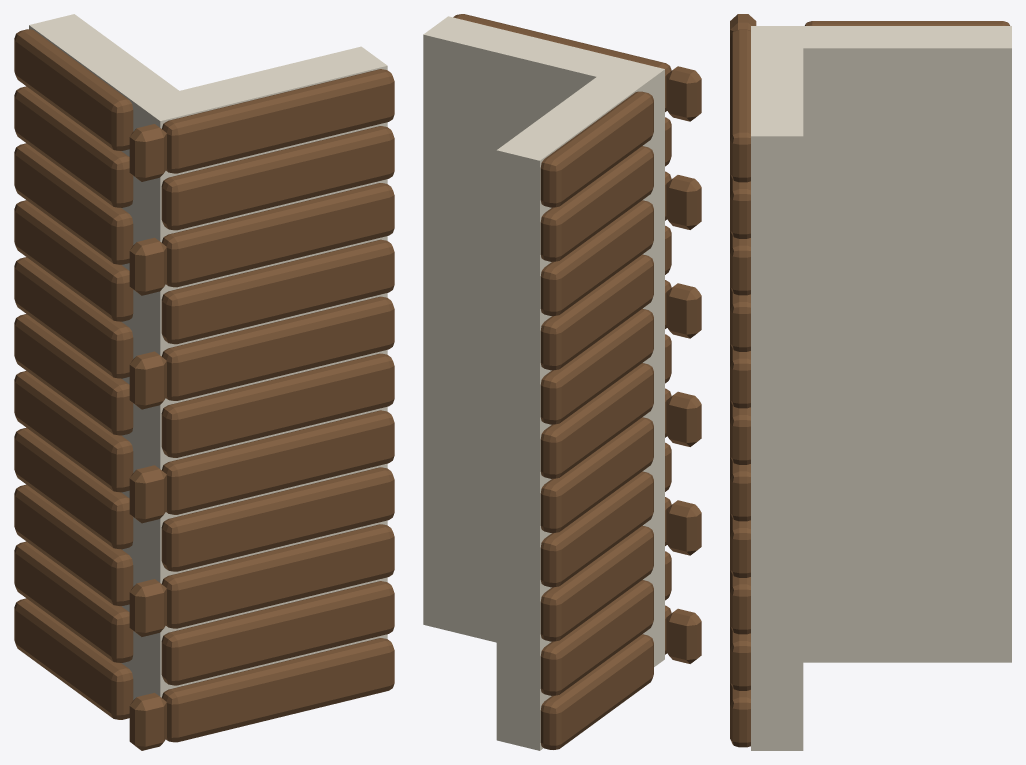
The model's file is SM_Wall_RusticLog_01_Corner.fbx.
3 views of the same model, side by side, from view 1: azimuth 30°, elevation 25°; view 2: azimuth 150°, elevation 25°; view 3: azimuth 270°, elevation 25° (orthographic). The views are drawn at different scales.
Visible parts, largest first — view 1: SM_Wall_RusticLog_01_Corner_PanelX, SM_Wall_RusticLog_01_Corner_X_Log1, SM_Wall_RusticLog_01_Corner_X_Log7, SM_Wall_RusticLog_01_Corner_X_Log3, SM_Wall_RusticLog_01_Corner_X_Log5, SM_Wall_RusticLog_01_Corner_X_Log9, SM_Wall_RusticLog_01_Corner_X_Log10, SM_Wall_RusticLog_01_Corner_X_Log4, SM_Wall_RusticLog_01_Corner_X_Log8, SM_Wall_RusticLog_01_Corner_X_Log2, SM_Wall_RusticLog_01_Corner_X_Log0, SM_Wall_RusticLog_01_Corner_X_Log6 (+18 smaller); view 2: SM_Wall_RusticLog_01_Corner_PanelX, SM_Wall_RusticLog_01_Corner_PanelY, SM_Wall_RusticLog_01_Corner_YLog10, SM_Wall_RusticLog_01_Corner_YLog3, SM_Wall_RusticLog_01_Corner_YLog6, SM_Wall_RusticLog_01_Corner_YLog7, SM_Wall_RusticLog_01_Corner_YLog2, SM_Wall_RusticLog_01_Corner_YLog4, SM_Wall_RusticLog_01_Corner_YLog8, SM_Wall_RusticLog_01_Corner_YLog5, SM_Wall_RusticLog_01_Corner_YLog9, SM_Wall_RusticLog_01_Corner_YLog0 (+8 smaller); view 3: SM_Wall_RusticLog_01_Corner_PanelY, SM_Wall_RusticLog_01_Corner_PanelX, SM_Wall_RusticLog_01_Corner_X_Log10, SM_Wall_RusticLog_01_Corner_X_Log0, SM_Wall_RusticLog_01_Corner_X_Log2, SM_Wall_RusticLog_01_Corner_X_Log4, SM_Wall_RusticLog_01_Corner_X_Log6, SM_Wall_RusticLog_01_Corner_X_Log8, SM_Wall_RusticLog_01_Corner_X_Log1, SM_Wall_RusticLog_01_Corner_X_Log3, SM_Wall_RusticLog_01_Corner_X_Log5, SM_Wall_RusticLog_01_Corner_X_Log7 (+2 smaller).
Boxes of the visible parts, box(x1,y1,x2,y2) form: SM_Wall_RusticLog_01_Corner_PanelX: box(134, 46, 387, 699); SM_Wall_RusticLog_01_Corner_X_Log1: box(161, 581, 394, 685); SM_Wall_RusticLog_01_Corner_X_Log7: box(161, 239, 394, 344); SM_Wall_RusticLog_01_Corner_X_Log3: box(161, 467, 394, 571); SM_Wall_RusticLog_01_Corner_X_Log5: box(161, 353, 394, 457); SM_Wall_RusticLog_01_Corner_X_Log9: box(161, 126, 394, 230); SM_Wall_RusticLog_01_Corner_X_Log10: box(162, 69, 394, 173); SM_Wall_RusticLog_01_Corner_X_Log4: box(162, 410, 394, 514); SM_Wall_RusticLog_01_Corner_X_Log8: box(161, 183, 394, 287); SM_Wall_RusticLog_01_Corner_X_Log2: box(162, 524, 394, 628); SM_Wall_RusticLog_01_Corner_X_Log0: box(162, 638, 394, 742); SM_Wall_RusticLog_01_Corner_X_Log6: box(162, 296, 394, 400); SM_Wall_RusticLog_01_Corner_PanelX: box(423, 16, 664, 666); SM_Wall_RusticLog_01_Corner_PanelY: box(496, 77, 639, 750); SM_Wall_RusticLog_01_Corner_YLog10: box(540, 91, 653, 207); SM_Wall_RusticLog_01_Corner_YLog3: box(540, 471, 653, 587); SM_Wall_RusticLog_01_Corner_YLog6: box(540, 308, 653, 424); SM_Wall_RusticLog_01_Corner_YLog7: box(540, 254, 653, 370); SM_Wall_RusticLog_01_Corner_YLog2: box(540, 525, 653, 641); SM_Wall_RusticLog_01_Corner_YLog4: box(540, 417, 653, 533); SM_Wall_RusticLog_01_Corner_YLog8: box(540, 200, 653, 316); SM_Wall_RusticLog_01_Corner_YLog5: box(540, 363, 653, 478); SM_Wall_RusticLog_01_Corner_YLog9: box(540, 146, 653, 261); SM_Wall_RusticLog_01_Corner_YLog0: box(540, 634, 653, 749); SM_Wall_RusticLog_01_Corner_PanelY: box(803, 26, 1011, 662); SM_Wall_RusticLog_01_Corner_PanelX: box(751, 26, 803, 750); SM_Wall_RusticLog_01_Corner_X_Log10: box(730, 29, 750, 182); SM_Wall_RusticLog_01_Corner_X_Log0: box(730, 682, 750, 747); SM_Wall_RusticLog_01_Corner_X_Log2: box(730, 569, 750, 634); SM_Wall_RusticLog_01_Corner_X_Log4: box(730, 456, 750, 521); SM_Wall_RusticLog_01_Corner_X_Log6: box(730, 343, 750, 408); SM_Wall_RusticLog_01_Corner_X_Log8: box(730, 230, 750, 295); SM_Wall_RusticLog_01_Corner_X_Log1: box(730, 626, 750, 690); SM_Wall_RusticLog_01_Corner_X_Log3: box(730, 513, 750, 577); SM_Wall_RusticLog_01_Corner_X_Log5: box(730, 400, 750, 464); SM_Wall_RusticLog_01_Corner_X_Log7: box(730, 287, 750, 351).
Bounding box in the file's own units: 1.14 × 2.6 × 1.08.
